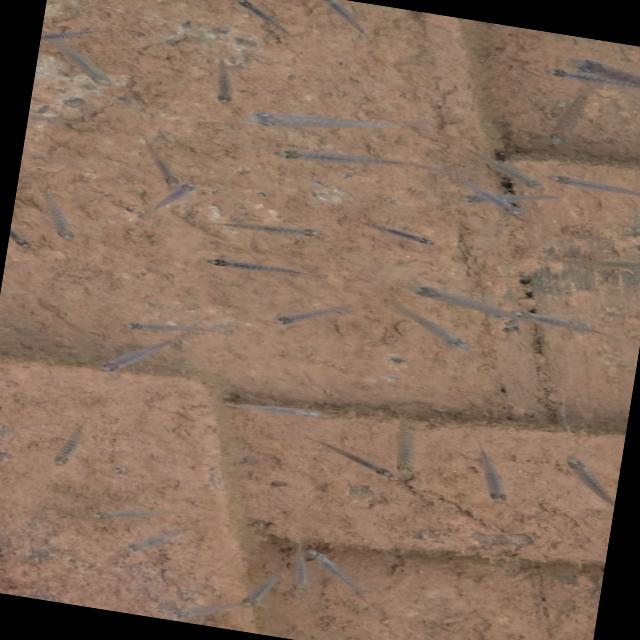Sivrisinek Baligi: (247, 90, 432, 152), (272, 129, 444, 184), (396, 276, 530, 328), (100, 323, 196, 388), (214, 381, 331, 432), (192, 206, 326, 250), (46, 36, 132, 96), (382, 299, 478, 352), (185, 248, 312, 287), (108, 306, 226, 344), (340, 212, 455, 250), (266, 290, 358, 336), (452, 177, 538, 224), (24, 192, 90, 245), (516, 307, 612, 341), (545, 172, 640, 203), (150, 174, 206, 216)
